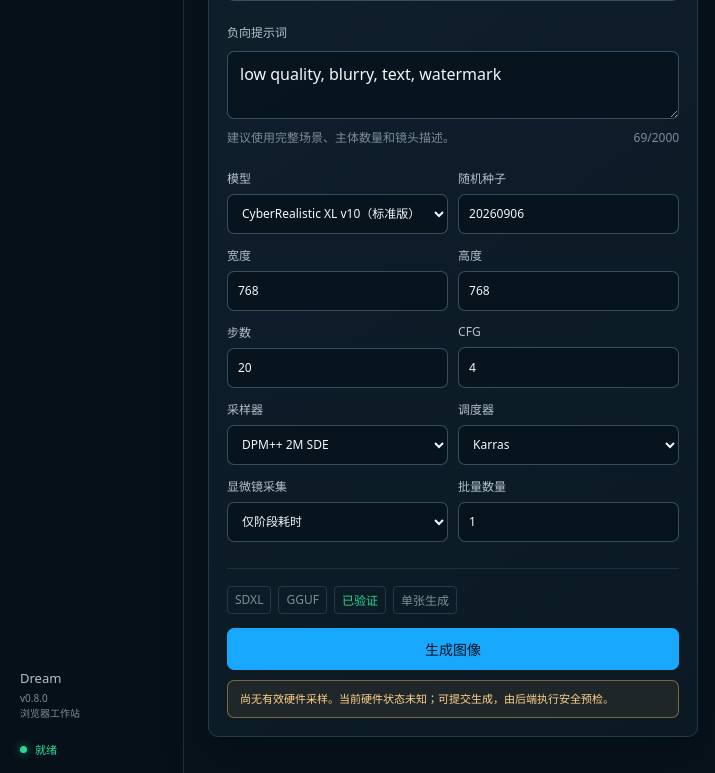
Test: GUI-02 hardware acquisition to shell › allows submission before the first sample and preserves backend preflight rejection
(page scrolled)
What coordinates should you click on to do the following:
click the button "生成图像"
I would click on:
 (453, 649)
Its box is [227,628,679,670].
(page scrolled)
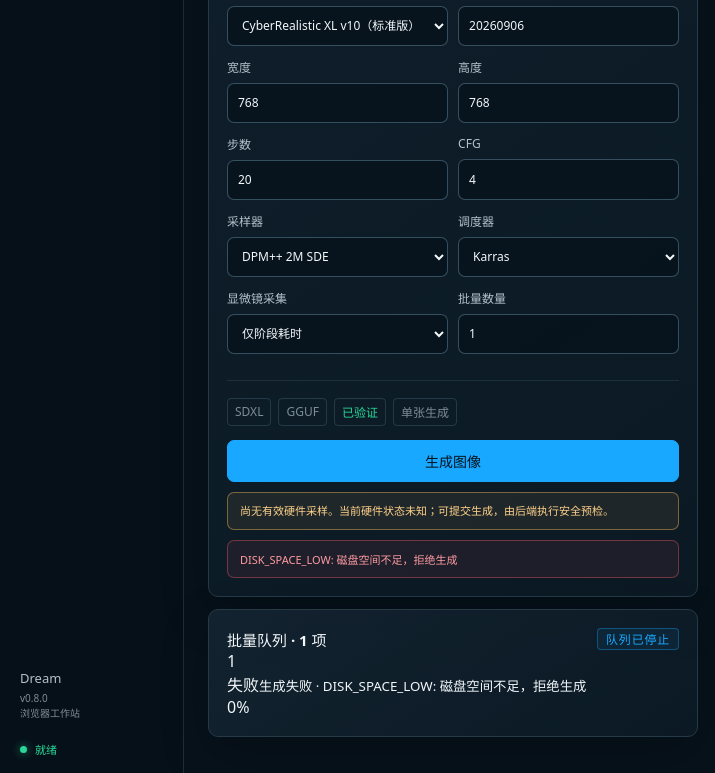
Expected: the message named "硬件监控提示" shows "当前硬件状态未知", [240,503,614,518]
Expected: the text "DISK_SPACE_LOW: 磁盘空间不足，拒绝生成" is shown, [227,540,679,578]
